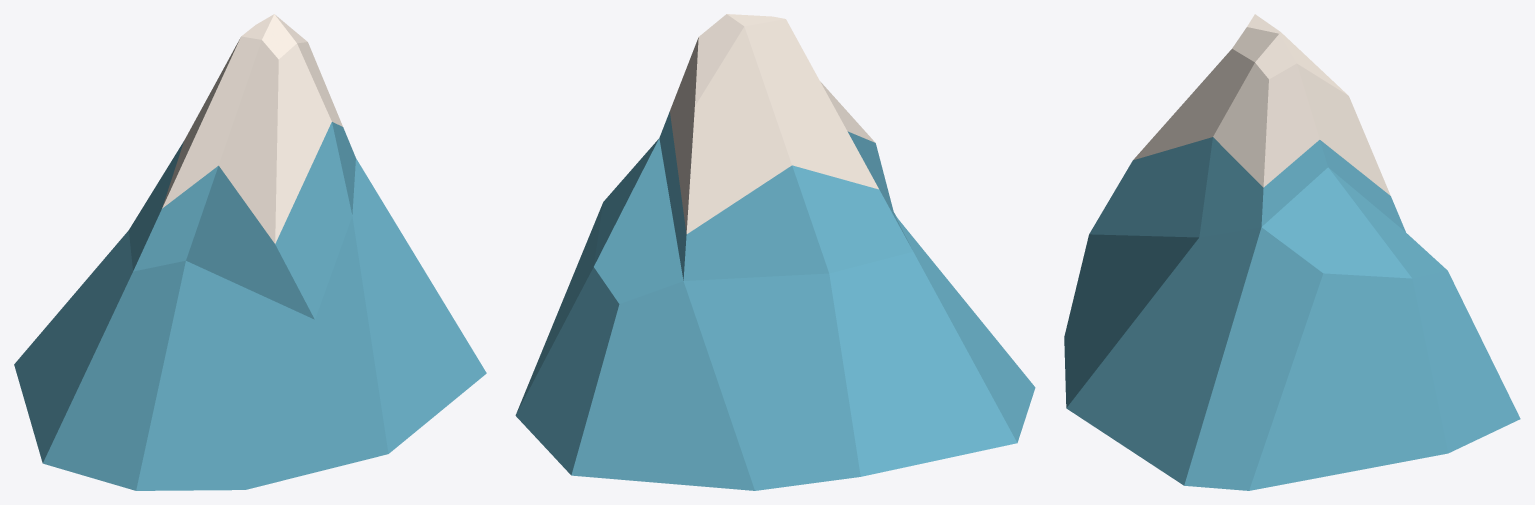
File: M_Iceberg_Obstacle_0.fbx
3 views of the same model, side by side, from view 1: azimuth 30°, elevation 25°; view 2: azimuth 150°, elevation 25°; view 3: azimuth 270°, elevation 25° (orthographic). The views are drawn at different scales.
Visible parts, largest first — view 1: M_Iceberg_Obstacle_0; view 2: M_Iceberg_Obstacle_0; view 3: M_Iceberg_Obstacle_0.
Part boxes in pixels (box(x1,y1,x2,y2)): M_Iceberg_Obstacle_0: box(14, 14, 486, 490); M_Iceberg_Obstacle_0: box(515, 14, 1035, 490); M_Iceberg_Obstacle_0: box(1064, 14, 1520, 490).
Bounding box in the file's own units: 1015 × 829 × 916.
